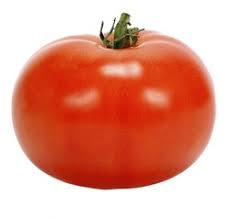tomato: (9, 31, 215, 191)
